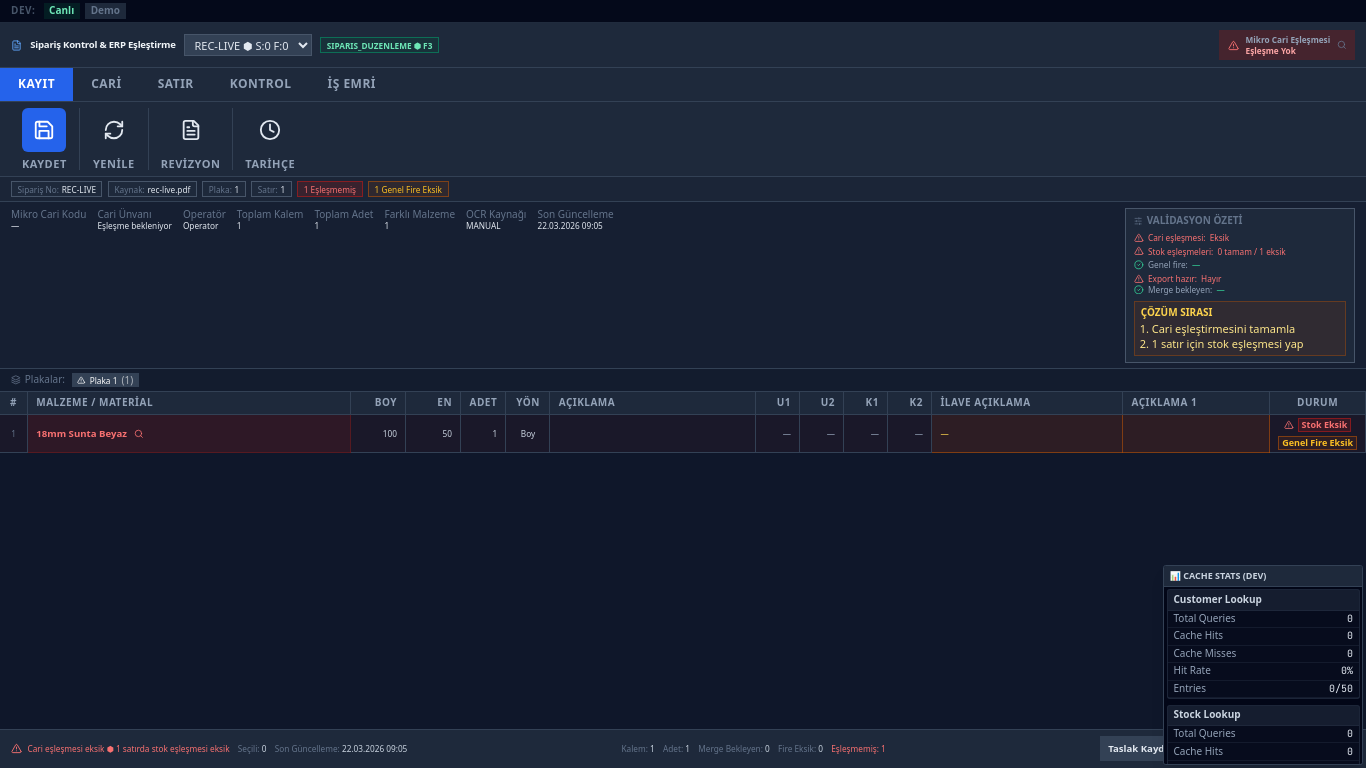
SiparisKontrolPage › canlı cari lookup düşerse yerel öneri başlığını gösterir
The width and height of the screenshot is (1366, 768).
Step 1. Click the tab "CARİ" → [106, 84], box x1=73 y1=68 x2=140 y2=101
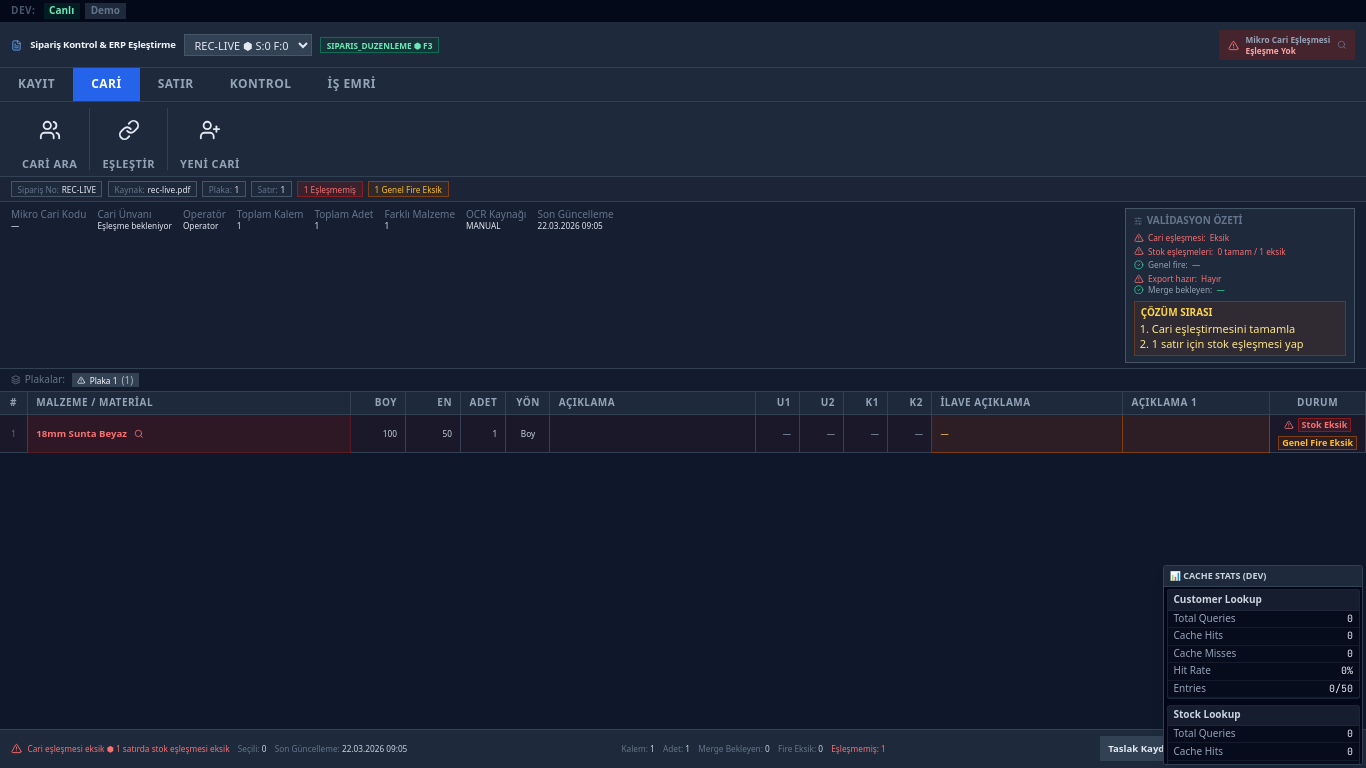
Step 2. Click the button named "Cari Ara" → [50, 130], box x1=28 y1=108 x2=72 y2=152
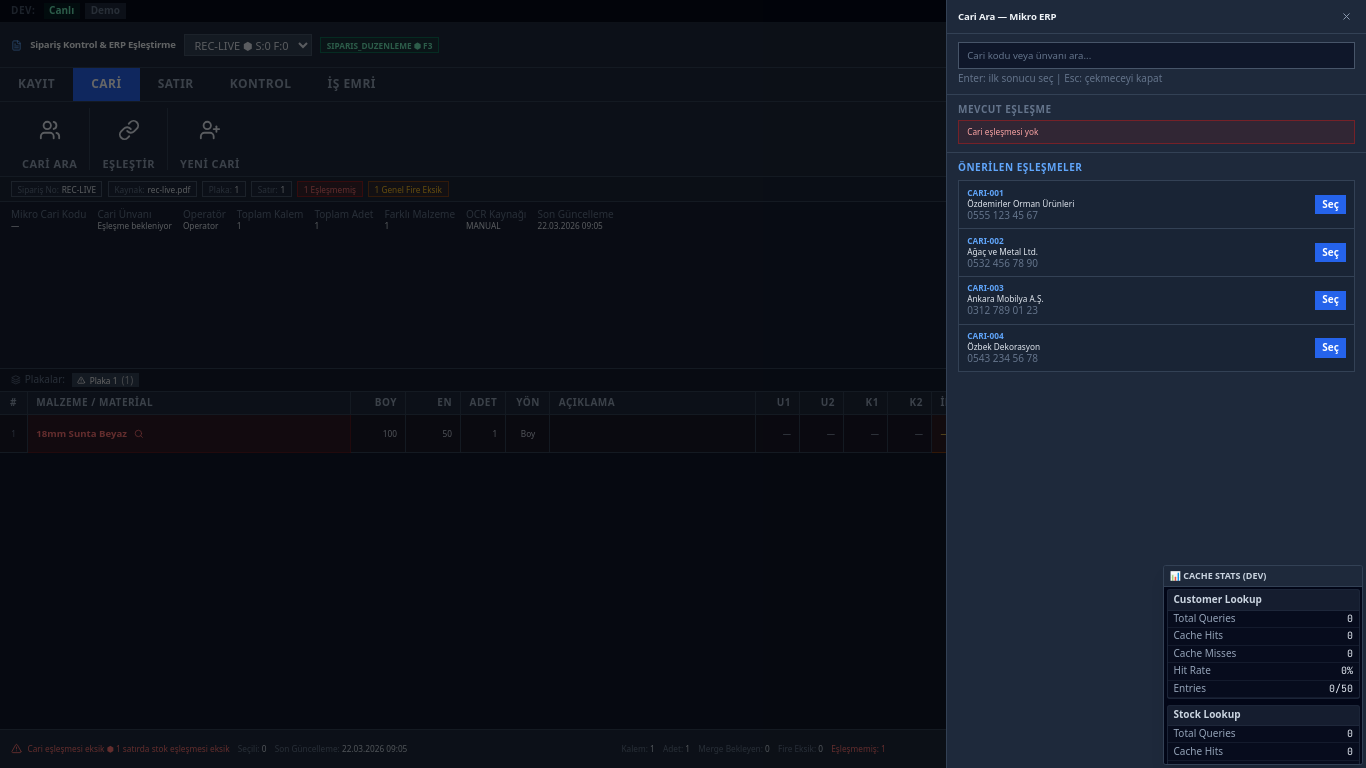
Step 3. Type "CARI-001" into the search field with placeholder "Cari kodu veya ünvanı ara..." → [1156, 56], box x1=958 y1=42 x2=1355 y2=69
Wait 300 ms
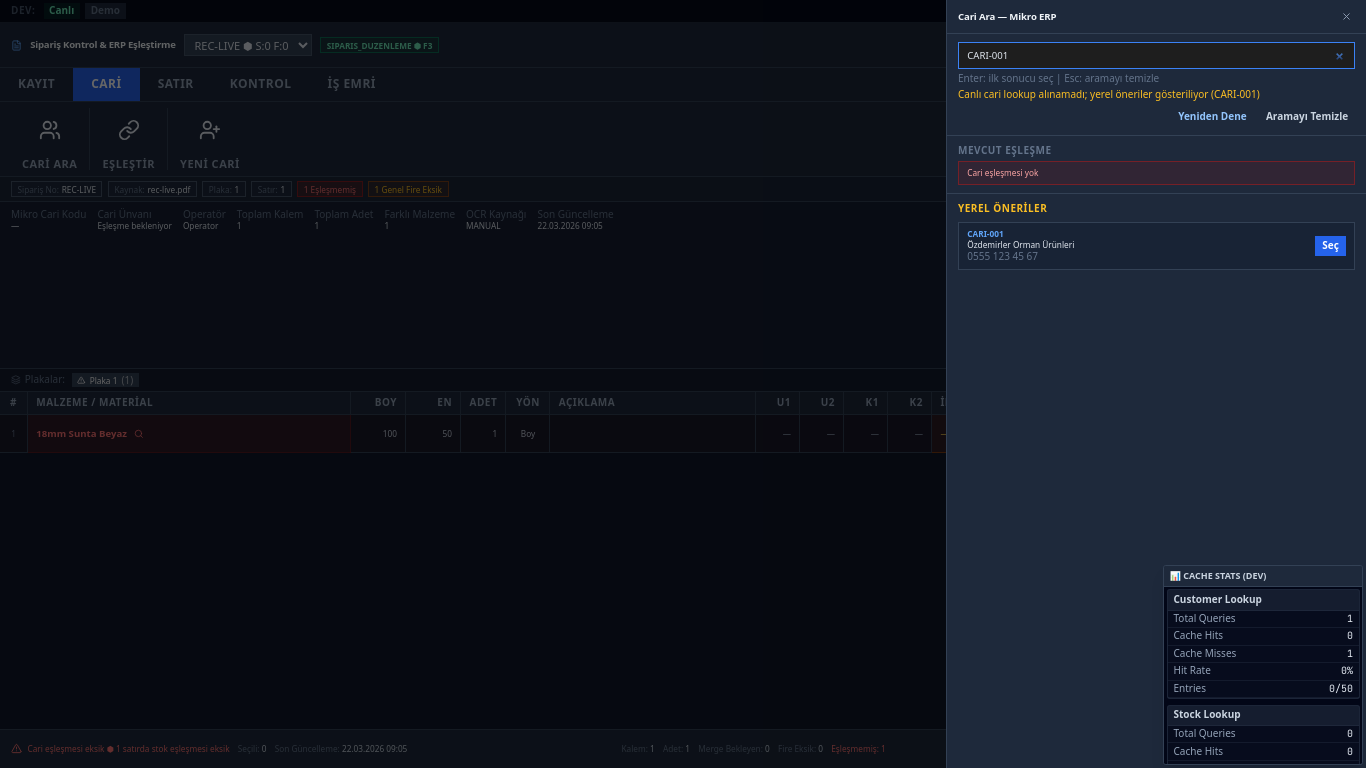
Expected: the text "CARI-001" is shown, x1=967 y1=228 x2=1004 y2=239
Expected: the text "Canlı cari lookup alınamadı; yerel öneriler gösteriliyor (CARI-001)" is shown, x1=958 y1=87 x2=1260 y2=101
Expected: the text "Yerel Öneriler" is shown, x1=958 y1=201 x2=1047 y2=215
